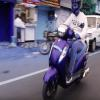motorcycles: (44, 25, 86, 100)
